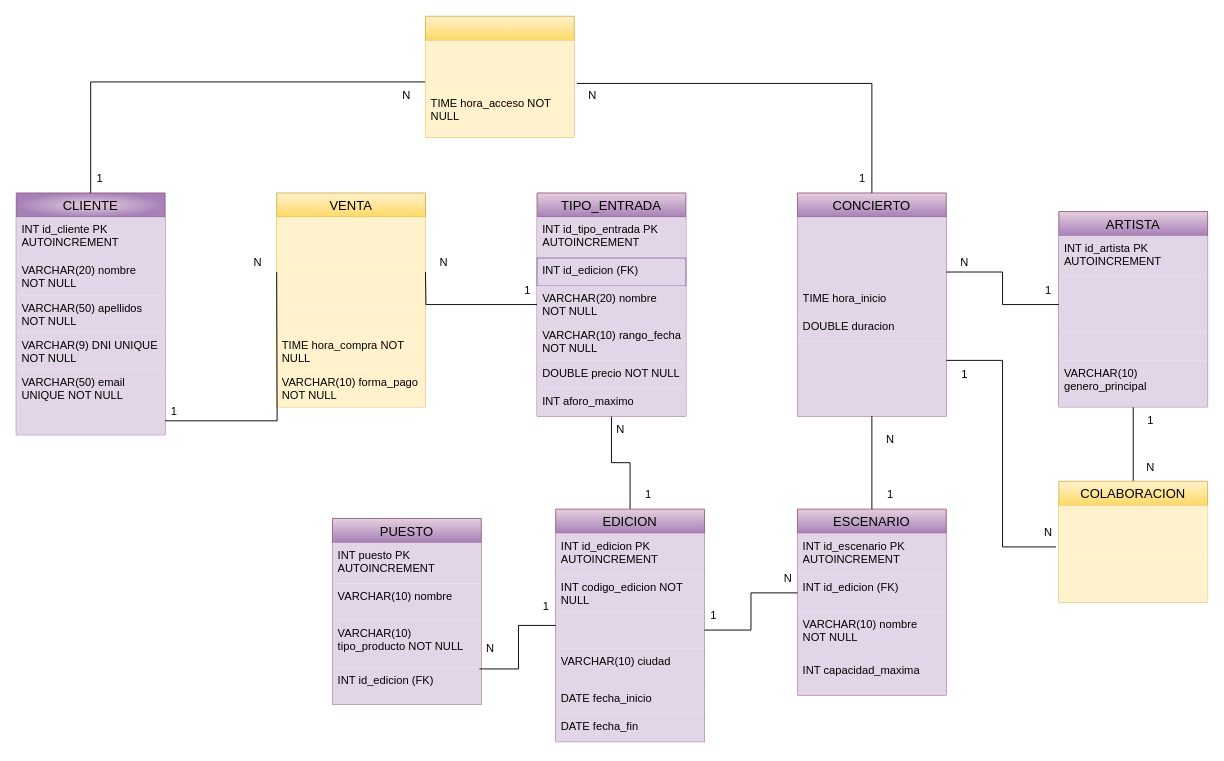
Some shapes in this 1224 by 761 pixel diagram are drawn without their labels. Each missing label, with the box of its shape:
ACCESO_CONCIERTO: (425, 15, 574, 137)
DATE fecha NOT NULL: (797, 258, 946, 286)
DATE fecha_compra NOT NULL: (276, 267, 425, 304)
INT (id_artista, id_concierto) PK AUTOINCREMENTAL: (1058, 505, 1207, 555)
INT (id_cliente, id_concierto) PK AUTOINCREMENTAL: (425, 40, 574, 90)
INT (id_cliente, id_tipo_entrada) PK AUTOINCREMENTAL: (276, 217, 425, 267)
INT cantidad NOT NULL: (276, 304, 425, 332)
INT id_artista (FK): (797, 379, 946, 416)
INT id_concierto PK AUTOINCREMENT: (797, 217, 946, 258)
INT id_escenario (FK): (797, 341, 946, 379)
INT telefono: (16, 406, 165, 434)
VARCHAR(10) pais_origen: (1058, 332, 1207, 360)
VARCHAR(10) recinto: (555, 611, 704, 648)
VARCHAR(20) nombre_artistico NOT NULL: (1058, 276, 1207, 332)
VARCHAR(20) tipo_participacion NOT NULL: (1058, 555, 1207, 602)
